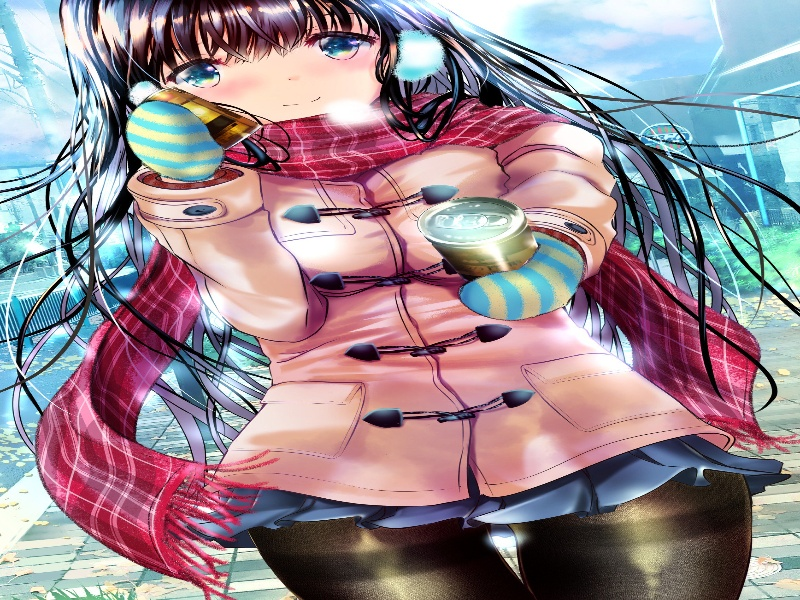person: (127, 1, 412, 146)
